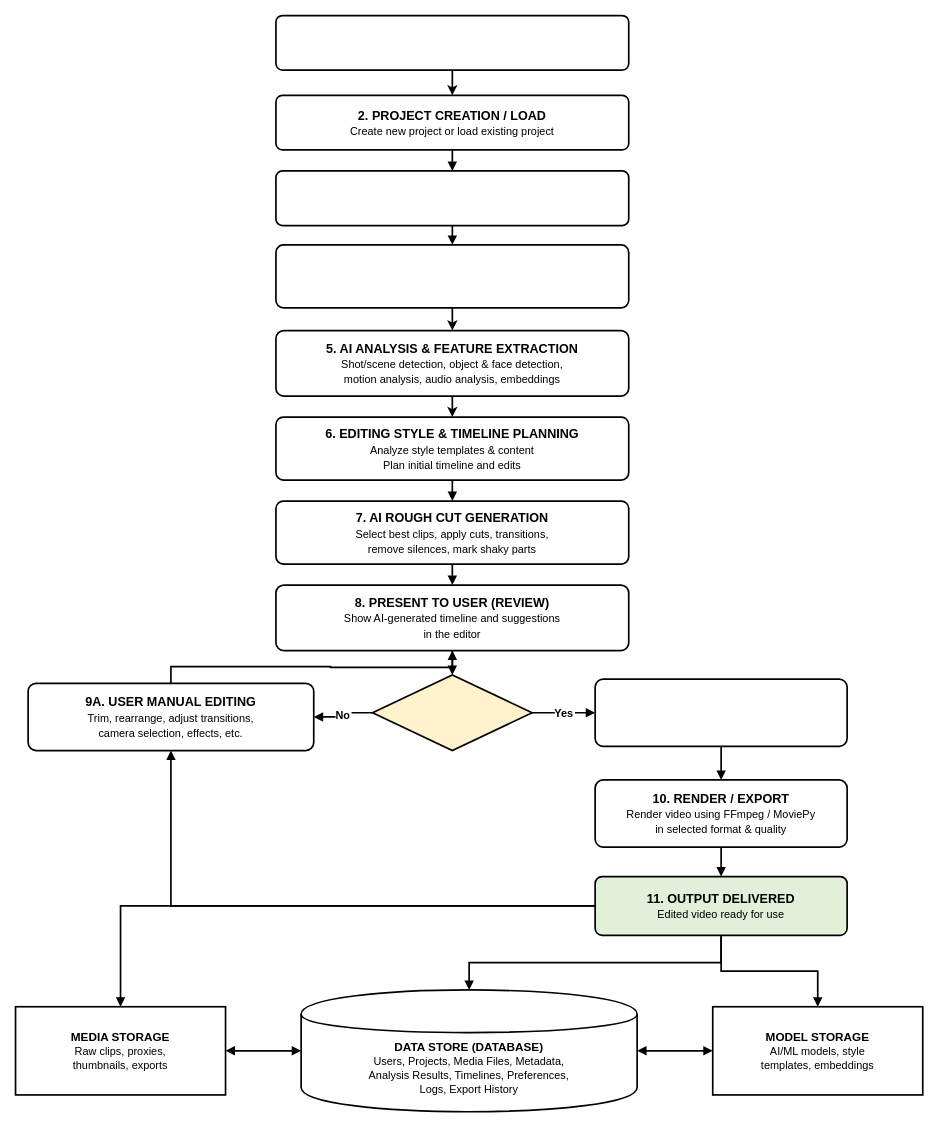
Some shapes in this 937 by 1126 pixel diagram are drawn without their labels. The box of each missing label's shape, as (x1, y1, x2, y2) in pixels:
3. IMPORT VIDEO CLIPS Import multiple clips from cameras / devices: (275, 170, 629, 226)
4.SLM UNDERSTANDING Understand user prompt, context and preferences: (275, 244, 629, 308)
9B. FINALIZE EDIT Confirm edits and lock timeline: (594, 678, 848, 747)
USER (Editor): (275, 14, 629, 71)
User Accepts Suggestions?: (371, 674, 533, 751)
